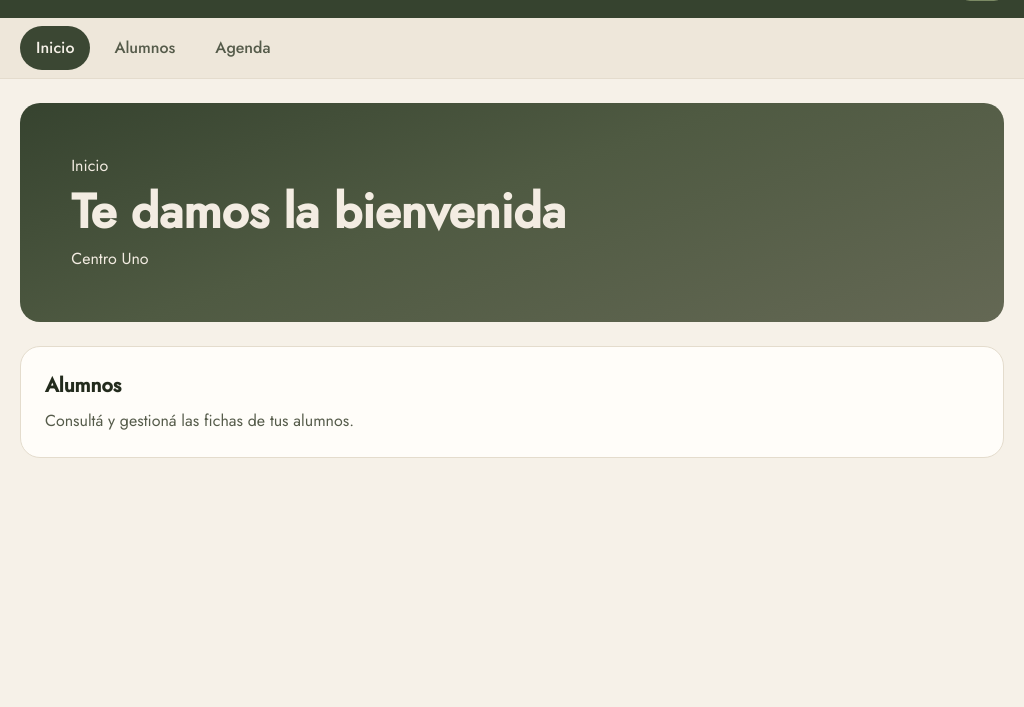
it: deja una sola clase abierta y la cierra al tocar de nuevo «Ver inscriptos»
Click the link "Agenda": coordinates (243, 48) [215,36,270,59]
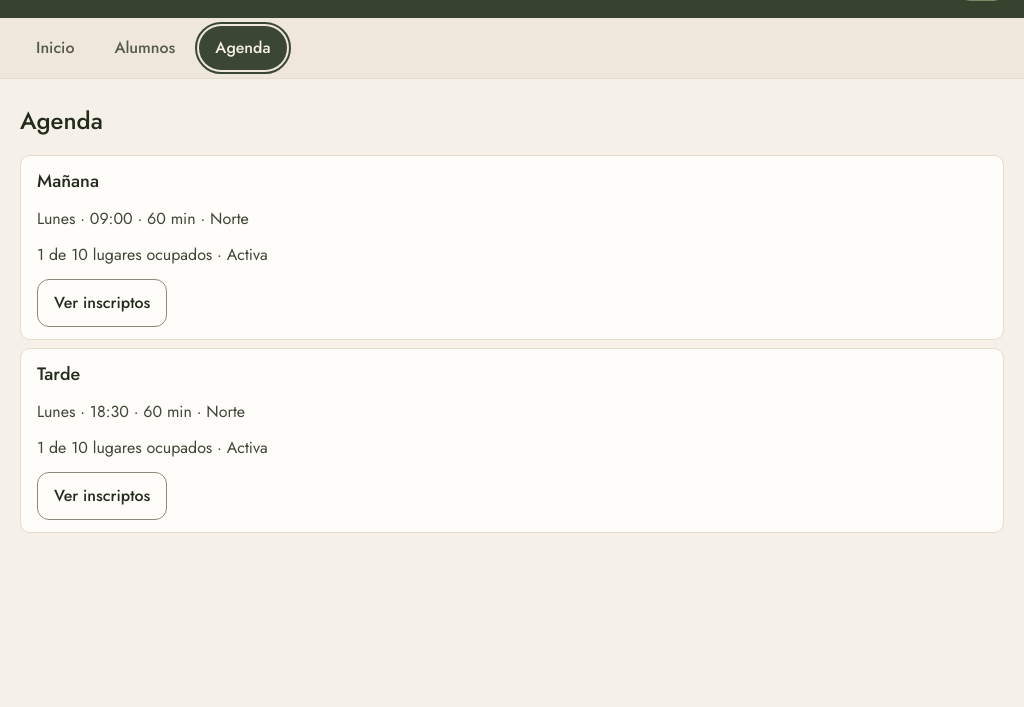
Click the button "Ver inscriptos" below "Mañana": coordinates (102, 303) [37,279,167,327]
(page scrolled)
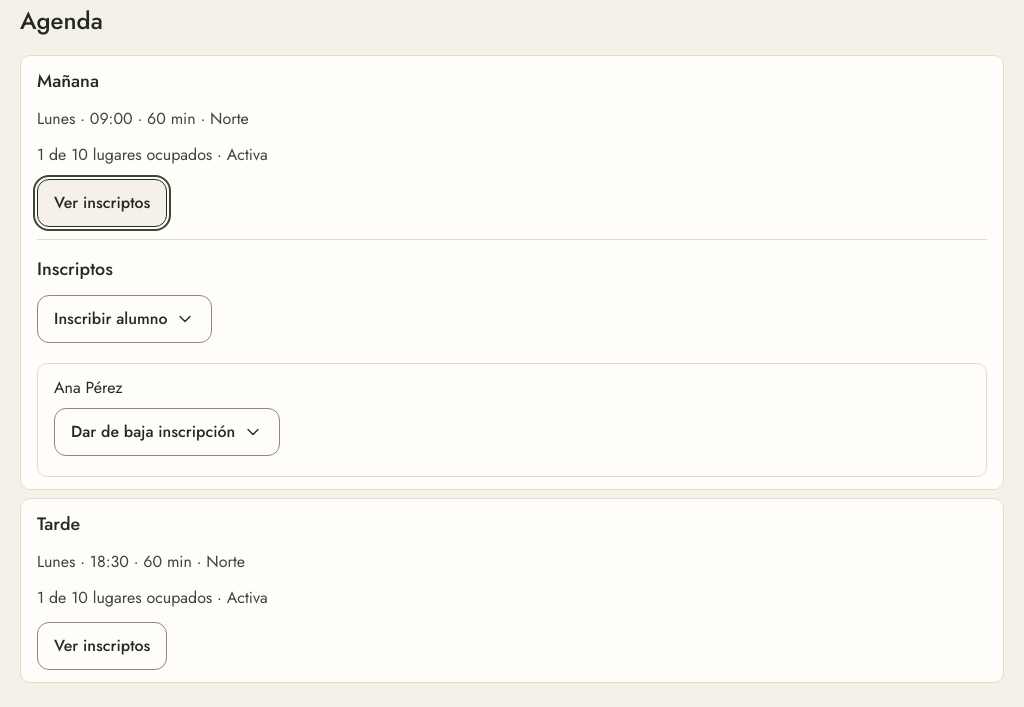
Check: the list item "Ana Pérez" is shown, box [37,363,987,477]
Check: the button "Ver inscriptos" below "Mañana" is expanded, box [37,179,167,227]
Click the button "Ver inscriptos" below "Tarde": coordinates (102, 646) [37,622,167,670]
(page scrolled)
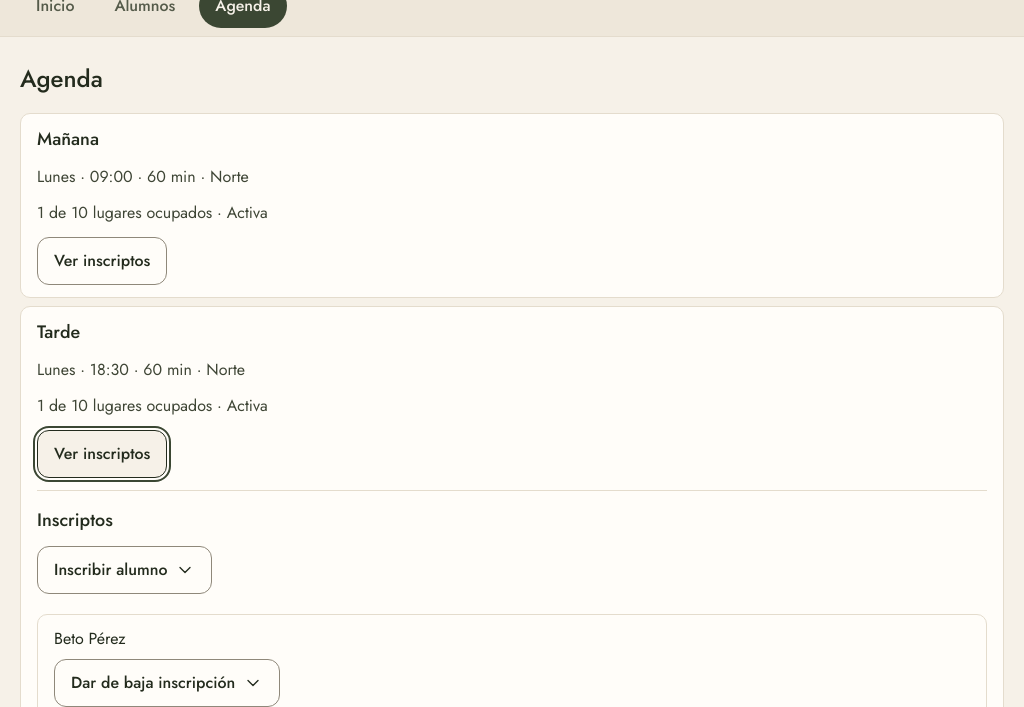
Check: the list item "Ana Pérez" is gone
Check: the button "Ver inscriptos" below "Mañana" is collapsed, box [37,237,167,285]
Click the button "Ver inscriptos" below "Tarde": coordinates (102, 454) [37,430,167,478]
(page scrolled)
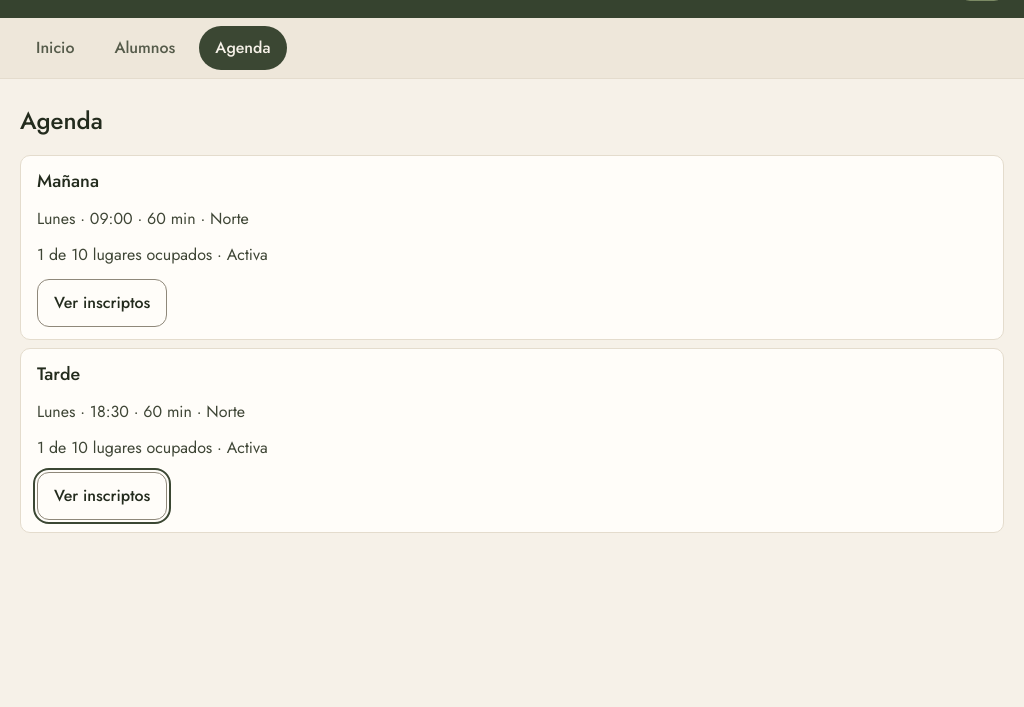
Check: the heading "Inscribir alumno" is gone
Check: the button "Ver inscriptos" below "Tarde" is collapsed, box [37,472,167,520]
